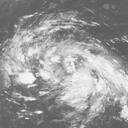cyclone: (48, 41, 100, 94)
